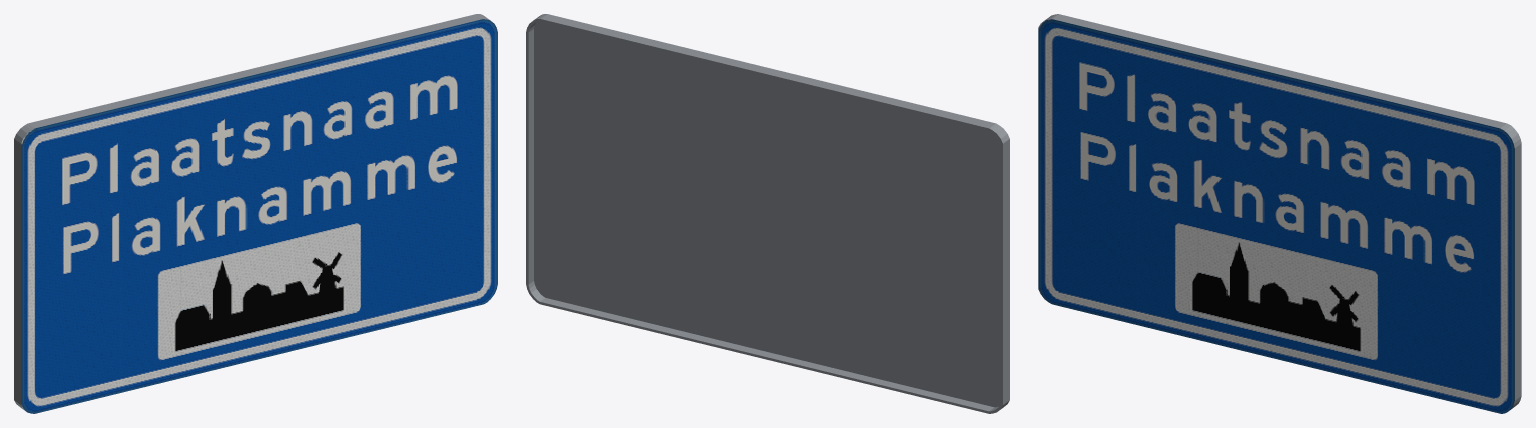
The picture shows the model from 3 angles, left to right: view 1: azimuth 30°, elevation 25°; view 2: azimuth 150°, elevation 25°; view 3: azimuth 330°, elevation 25°; orthographic projection.
Parts seen in each view (by area): view 1: cat_a7dd09300a0cb51a; view 2: cat_a7dd09300a0cb51a; view 3: cat_a7dd09300a0cb51a.
Boxes of the visible parts, x1,y1,x2,y2 form: cat_a7dd09300a0cb51a: (14, 14, 497, 413); cat_a7dd09300a0cb51a: (526, 14, 1009, 413); cat_a7dd09300a0cb51a: (1038, 14, 1521, 413).
Bounding box in the file's own units: 0.6 × 0.015 × 0.3432.
Materials: 2 (1 with a texture image).
